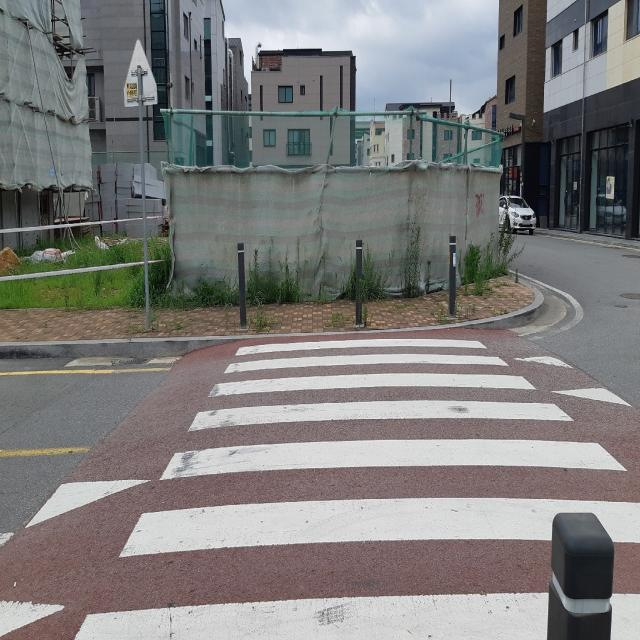횡단보도: (74, 334, 640, 640)
